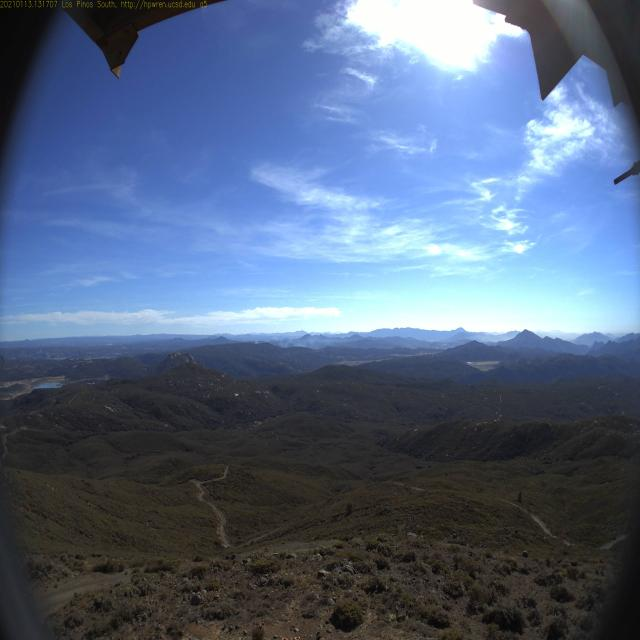smoke: (284, 332, 317, 349), (318, 330, 343, 352), (254, 332, 284, 348)
